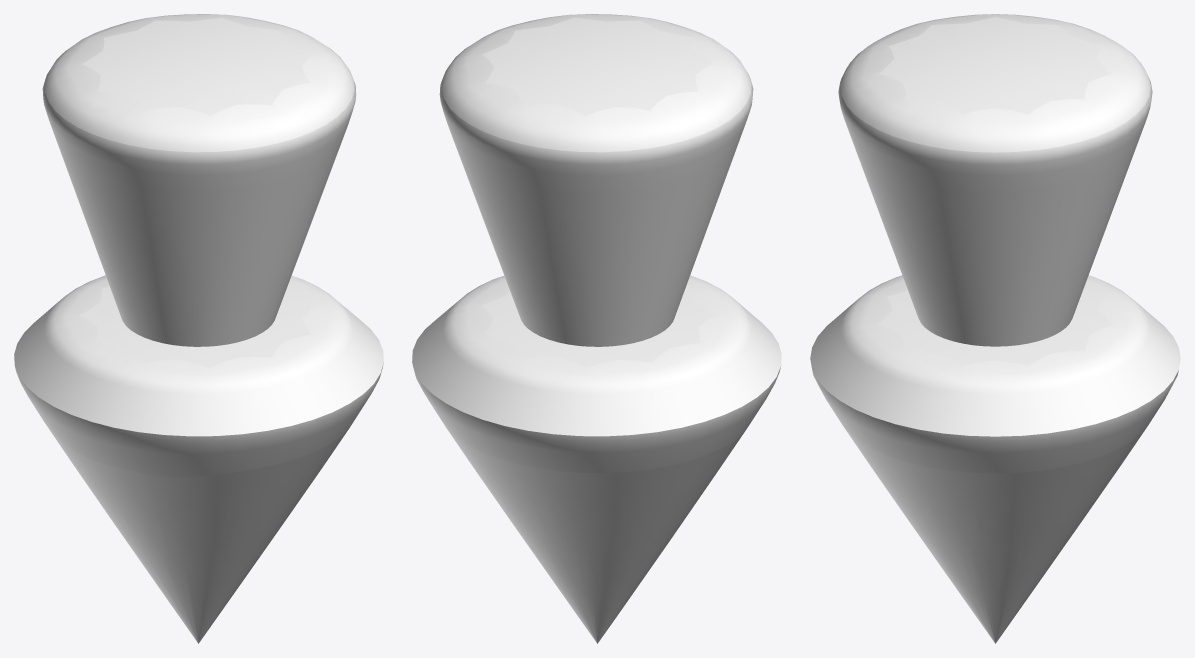
File: Arrow.fbx
3 views of the same model, side by side, from view 1: azimuth 30°, elevation 25°; view 2: azimuth 150°, elevation 25°; view 3: azimuth 270°, elevation 25° (orthographic).
Visible parts, largest first — view 1: Arrow_1; view 2: Arrow_1; view 3: Arrow_1.
Part boxes in pixels (left/top/right/bottom): Arrow_1: left=14, top=14, right=383, bottom=643; Arrow_1: left=412, top=14, right=781, bottom=643; Arrow_1: left=810, top=14, right=1180, bottom=643.
Size of the model in its own units: 61.01 by 106 by 61.01.
Materials: 1 (1 with a texture image).
